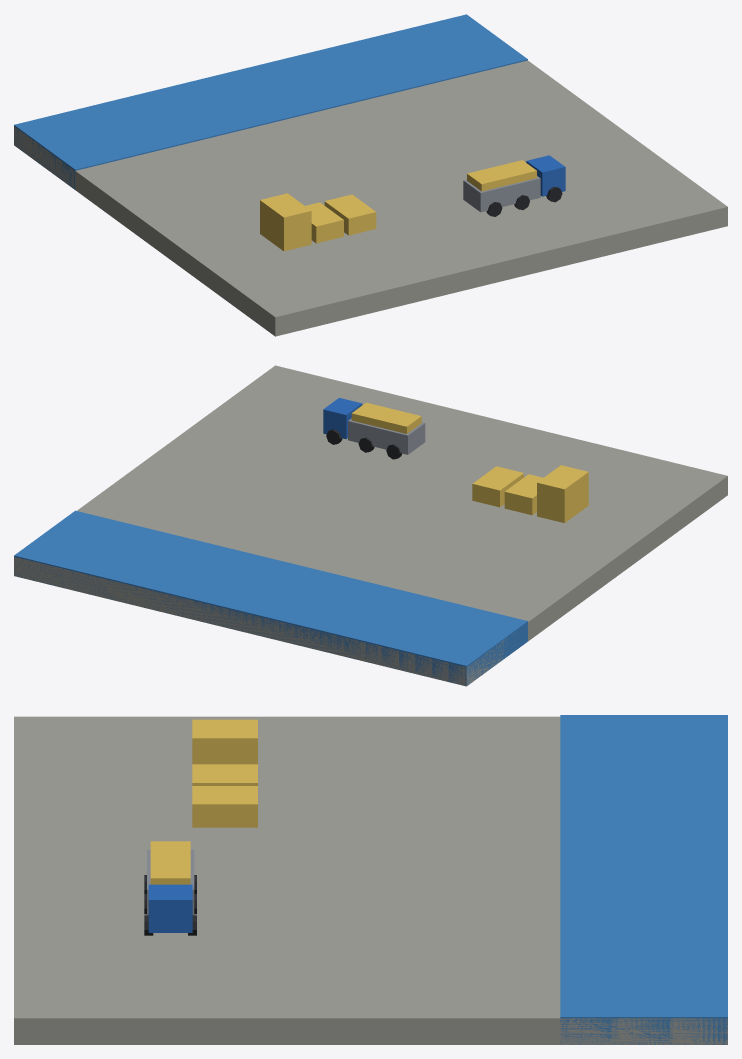
The model's file is agro_special_1.glb.
The picture shows the model from 3 angles, top to bottom: view 1: azimuth 30°, elevation 25°; view 2: azimuth 150°, elevation 25°; view 3: azimuth 270°, elevation 25°; orthographic projection. The views are drawn at different scales.
Visible parts, largest first — view 1: agro_special_1; view 2: agro_special_1; view 3: agro_special_1.
Part boxes in pixels (x1,y1,x2,y2): agro_special_1: (14,14,727,336); agro_special_1: (14,365,727,686); agro_special_1: (14,715,727,1044).
Bounding box in the file's own units: 1.96 × 0.22 × 1.96.
